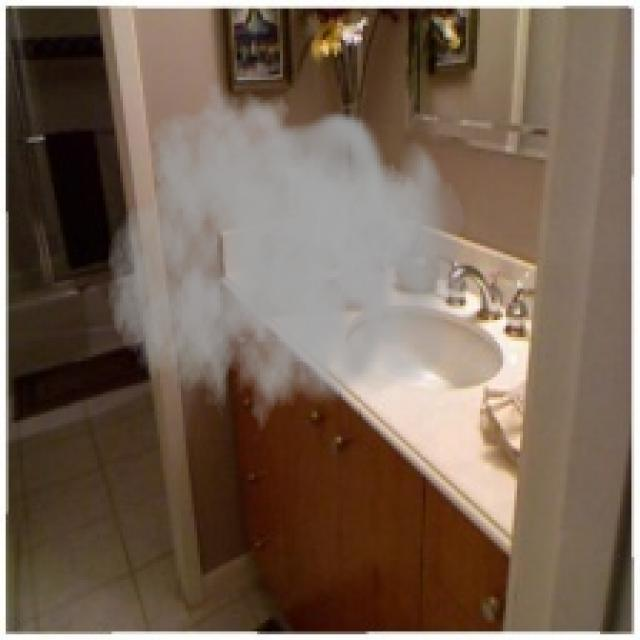Smoke: (106, 80, 468, 449)
